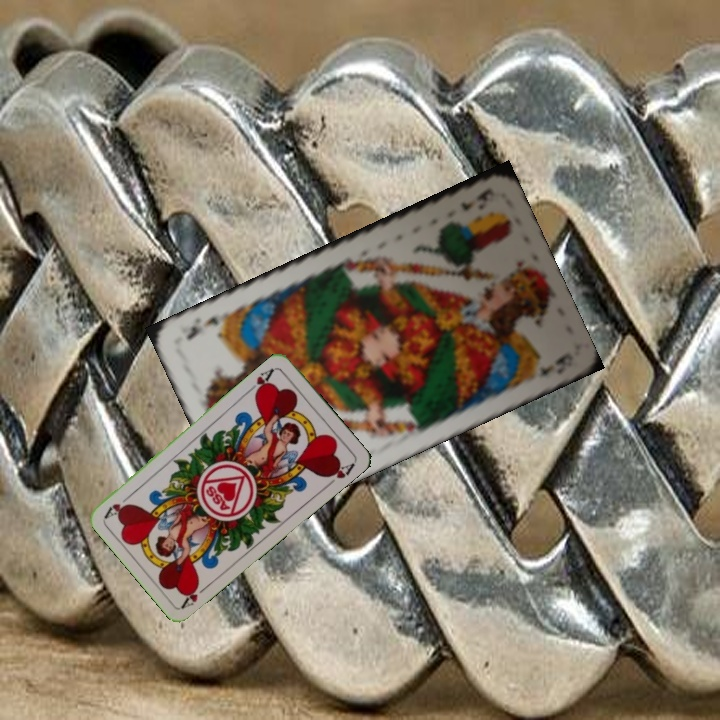EK: (457, 184, 497, 214)
HA: (244, 364, 278, 399), (178, 579, 212, 610)
